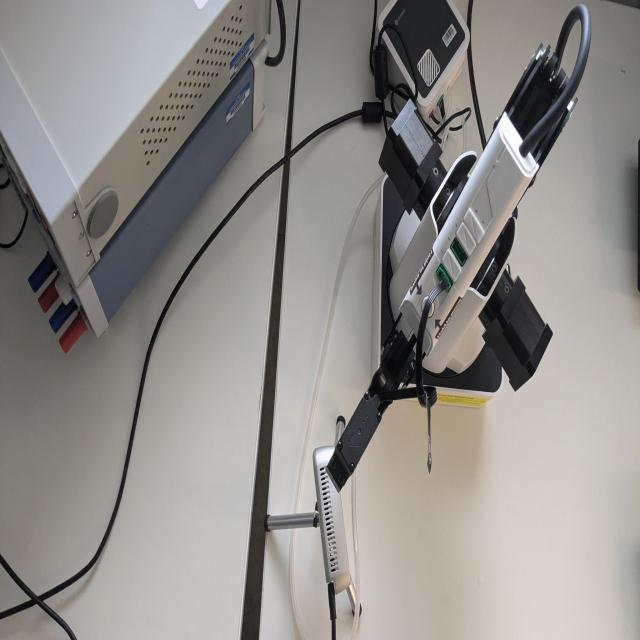Robot-end-effector-HF8z: (324, 385, 388, 501)
